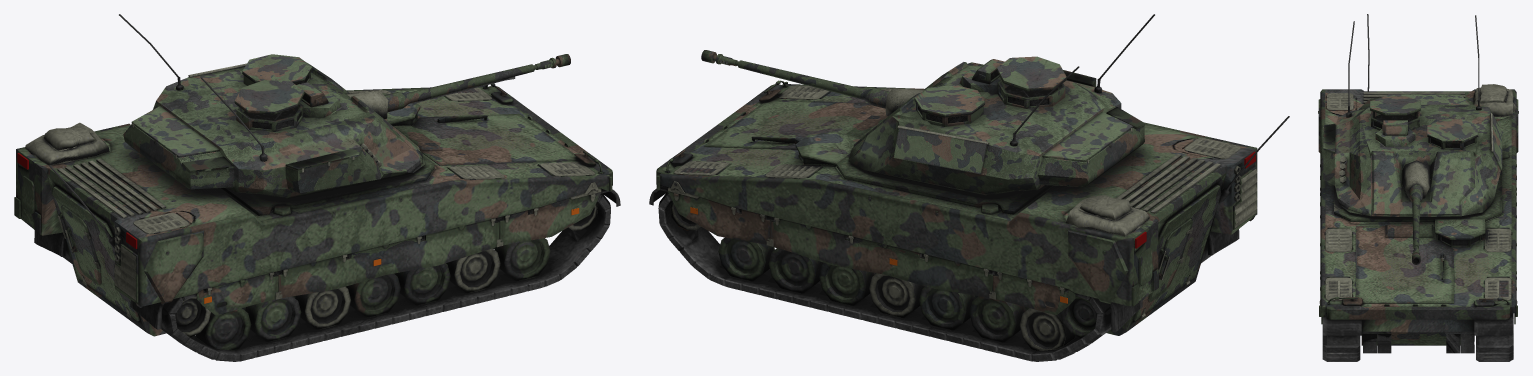
3 renders of one model, left to right at view 1: azimuth 30°, elevation 25°; view 2: azimuth 150°, elevation 25°; view 3: azimuth 270°, elevation 25°, orthographic. The views are drawn at different scales.
Visible parts, largest first — view 1: CV_90_Base1, CV_90_Turret, CV_90_Door, CV_90_Barrel; view 2: CV_90_Base1, CV_90_Turret, CV_90_Door, CV_90_Barrel; view 3: CV_90_Base1, CV_90_Turret, CV_90_Barrel.
Part boxes in pixels (x1,y1,x2,y2): CV_90_Base1: (14,83,620,361); CV_90_Turret: (119,14,424,198); CV_90_Door: (52,186,139,321); CV_90_Barrel: (346,54,570,119); CV_90_Base1: (649,80,1289,361); CV_90_Turret: (848,14,1154,195); CV_90_Door: (1133,185,1221,320); CV_90_Barrel: (701,50,924,116); CV_90_Base1: (1318,14,1518,361); CV_90_Turret: (1323,15,1502,216); CV_90_Barrel: (1402,160,1430,264).
Size of the model in its own units: 7.28 by 3.58 by 2.97.
Materials: 3 (3 with a texture image).
